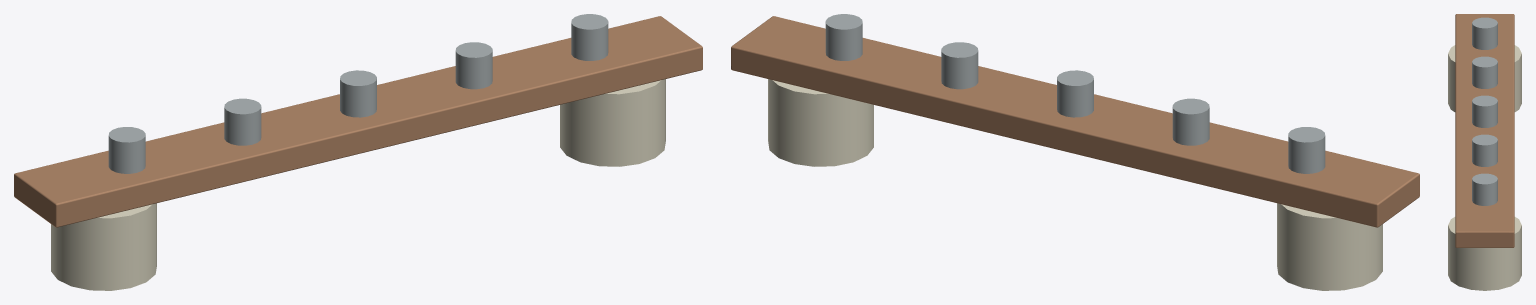
Rendered from off-grid-power-and-controls-busbar-61d112d6__3006.glb.
The picture shows the model from 3 angles, left to right: view 1: azimuth 30°, elevation 25°; view 2: azimuth 150°, elevation 25°; view 3: azimuth 270°, elevation 25°; orthographic projection. The views are drawn at different scales.
Parts seen in each view (by area): view 1: busbar; view 2: busbar; view 3: busbar.
Part boxes in pixels (x1,y1,x2,y2): busbar: (14, 14, 702, 290); busbar: (731, 14, 1419, 290); busbar: (1448, 14, 1521, 290).
Bounding box in the file's own units: 0.28 × 0.053 × 0.04.
